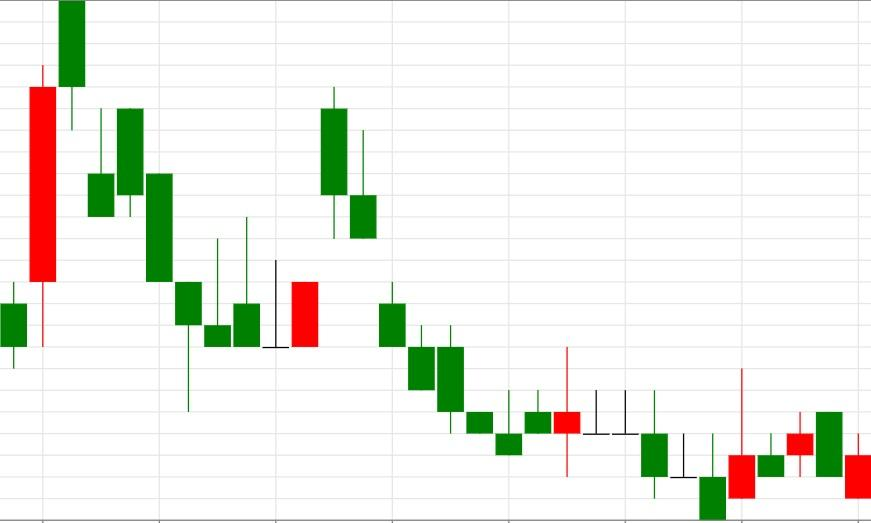bearish_engulfing_fall: (699, 367, 843, 521)
inverse_hammer_rise: (321, 86, 523, 456), (117, 108, 232, 413)
